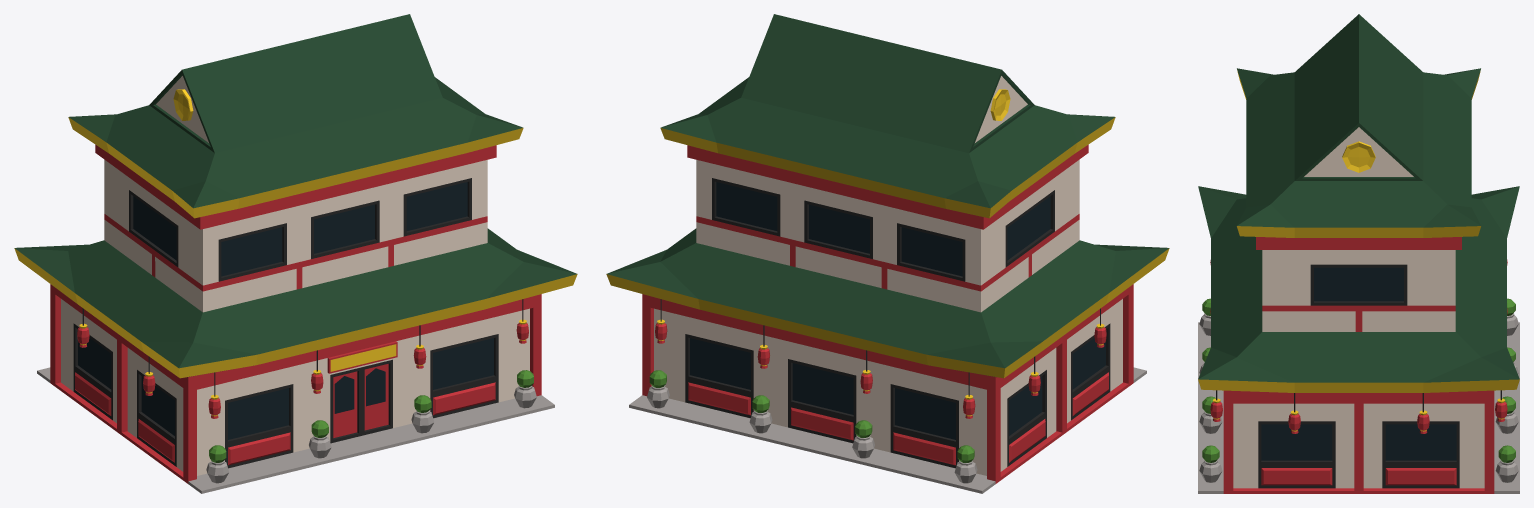
File: jap_2.glb
The picture shows the model from 3 angles, left to right: view 1: azimuth 30°, elevation 25°; view 2: azimuth 150°, elevation 25°; view 3: azimuth 270°, elevation 25°; orthographic projection. The views are drawn at different scales.
Parts seen in each view (by area): view 1: building-restuarant-china; view 2: building-restuarant-china; view 3: building-restuarant-china.
Part boxes in pixels (x1,y1,x2,y2): building-restuarant-china: (14,14,577,493); building-restuarant-china: (606,14,1169,493); building-restuarant-china: (1198,14,1519,493).
Size of the model in its own units: 14 by 11.7 by 10.
